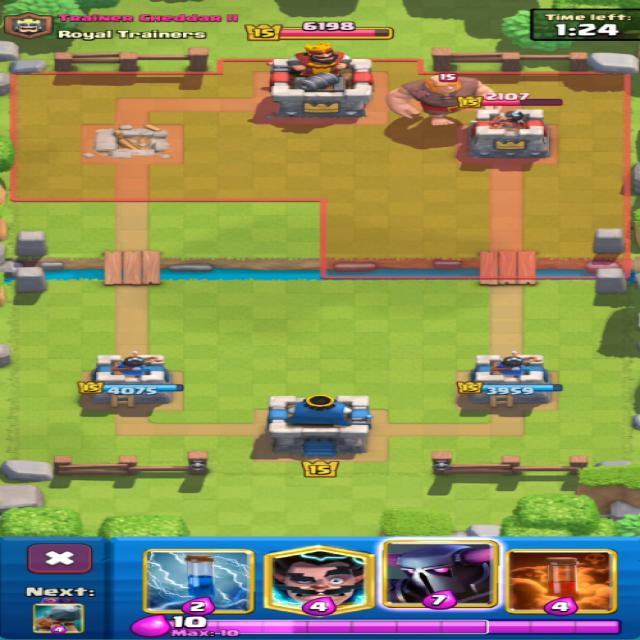Enemy-Giant: (389, 75, 495, 124)
Enemy-KingTower-Activated: (269, 43, 371, 116)
Enemy-PrincessTower: (469, 107, 549, 157)
Player-KingTower: (266, 393, 372, 455)
Player-PrincessTower: (78, 351, 182, 406), (457, 351, 561, 406)
